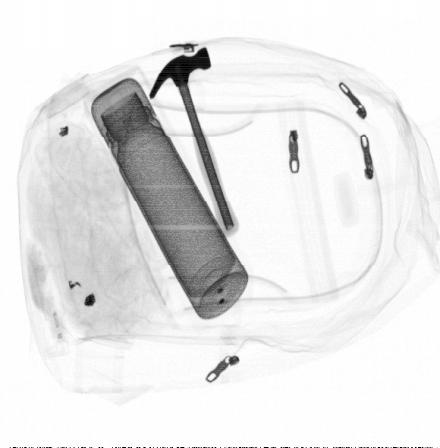Hammer: (148, 46, 240, 239)
